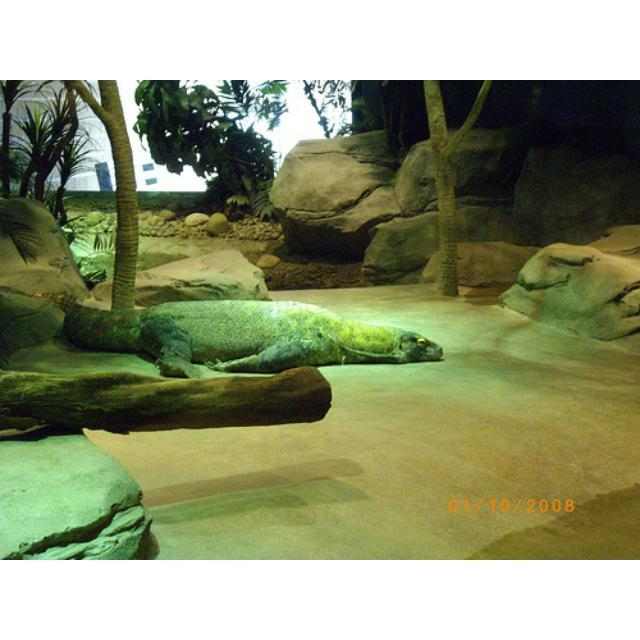KomodoDragon: (57, 297, 446, 376)
